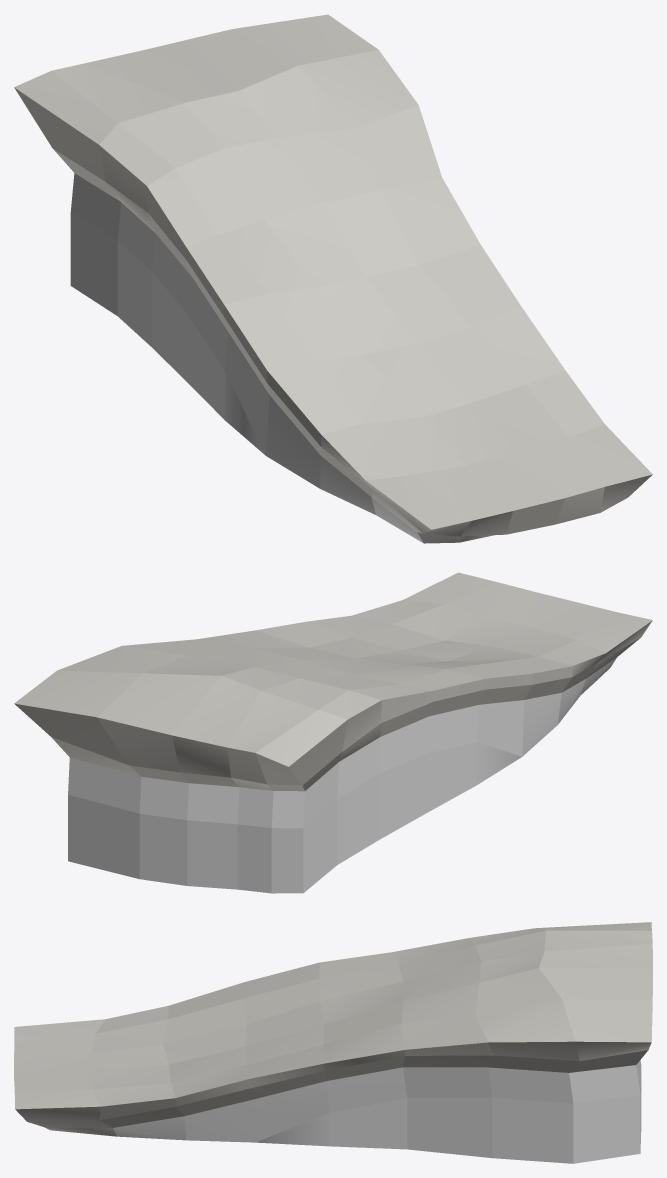
Rendered from christmasIslandSlope.dae.
3 views of the same model, one above another, from view 1: azimuth 30°, elevation 25°; view 2: azimuth 150°, elevation 25°; view 3: azimuth 270°, elevation 25° (orthographic). The views are drawn at different scales.
Visible parts, largest first — view 1: christmasIslandSlope; view 2: christmasIslandSlope; view 3: christmasIslandSlope.
Boxes of the visible parts, x1,y1,x2,y2 form: christmasIslandSlope: (14, 14, 652, 543); christmasIslandSlope: (14, 572, 652, 893); christmasIslandSlope: (14, 922, 652, 1163).
Bounding box in the file's own units: 6.16 × 13.59 × 3.69.
2 materials, 1 textured.
